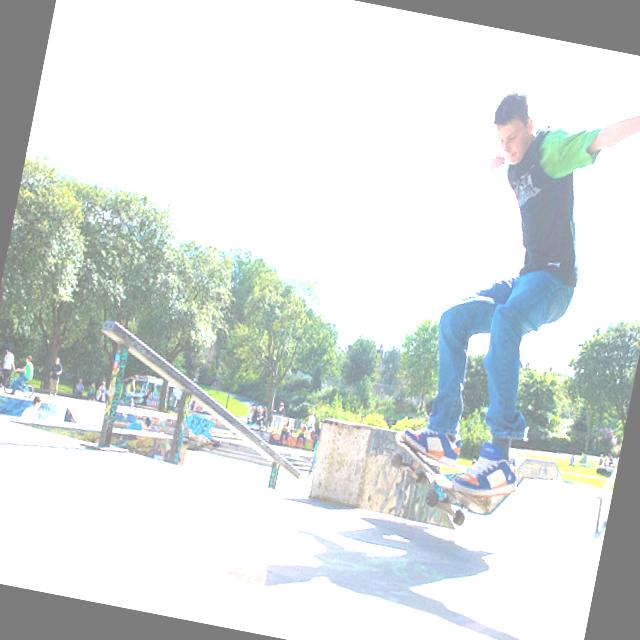Vehicle: (118, 371, 185, 416)
